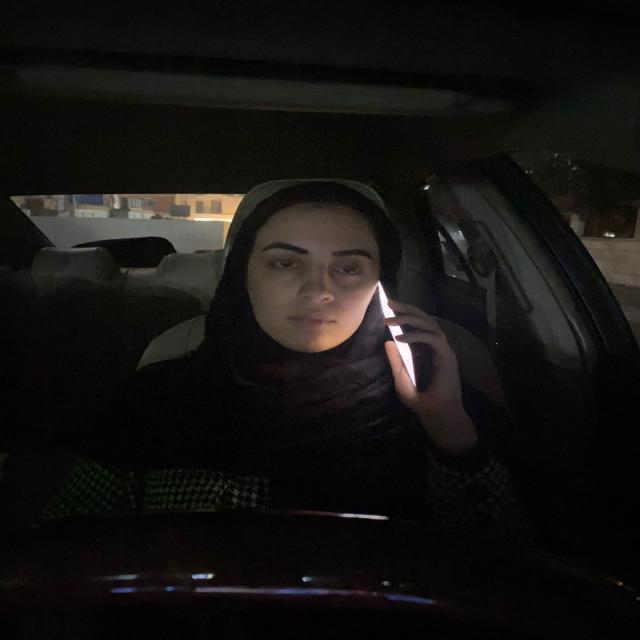mobile: (372, 276, 430, 398)
person: (232, 188, 384, 360)
